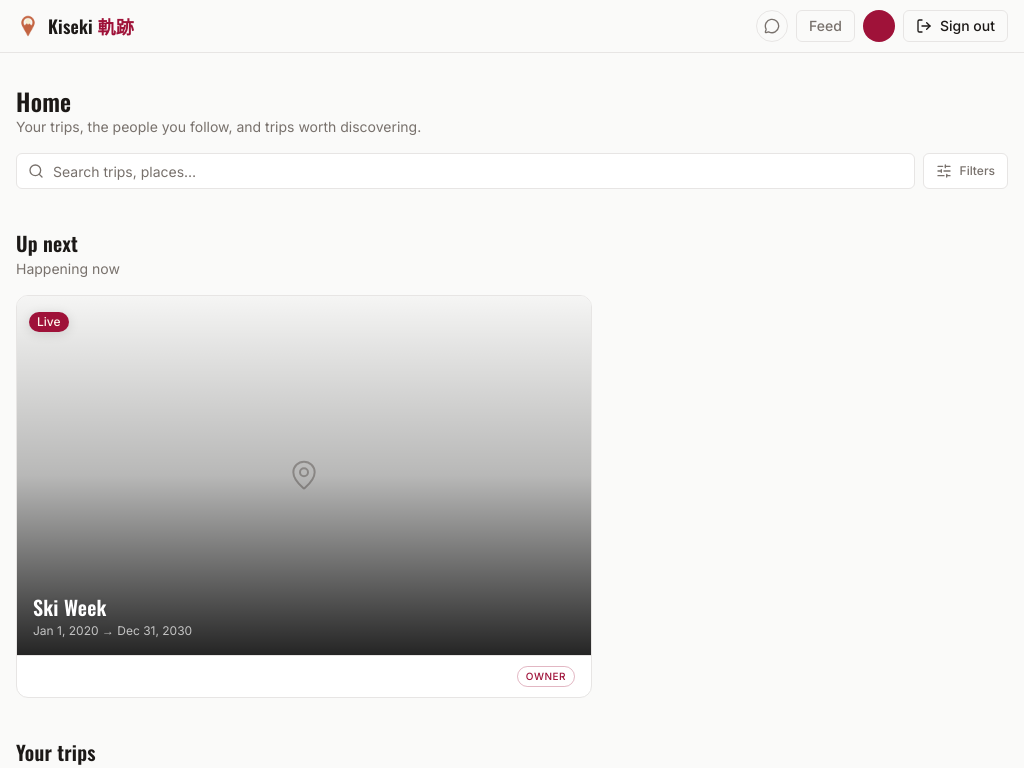
Test case: followed trips are not your trips › hides followed trips behind the Mine facet, with the band's one-line collapse
Click the button "Filters" at (965, 171), box [923,153,1008,189]
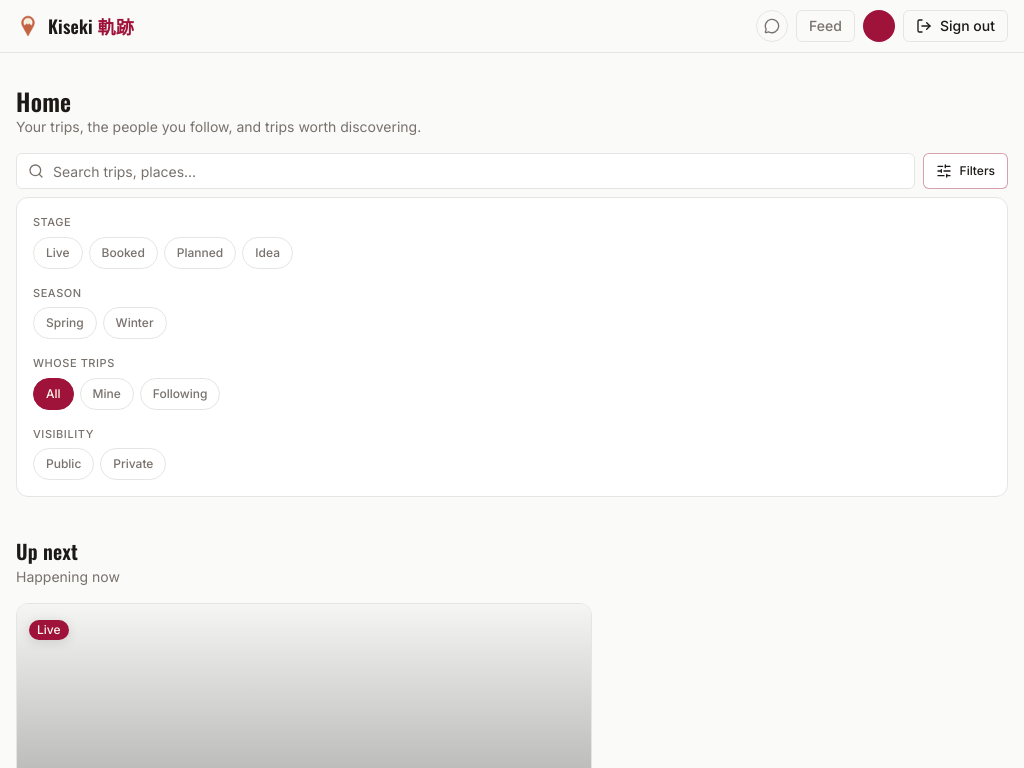
Click the button "Mine" at (107, 394), box [80,378,134,410]
(page scrolled)
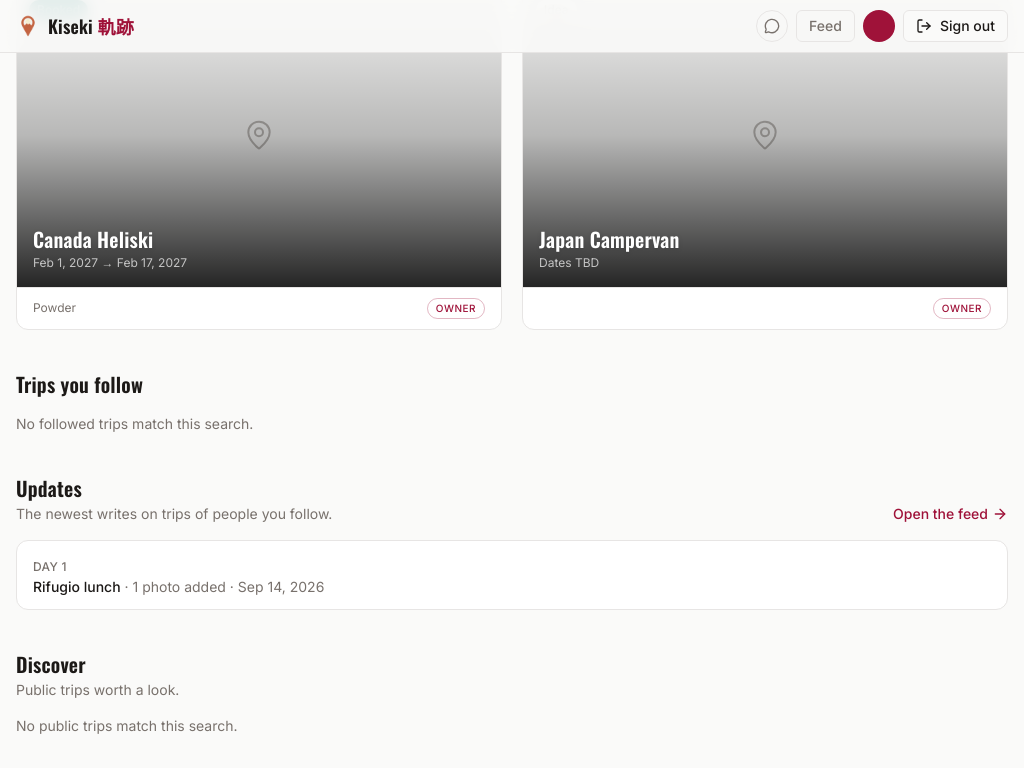
Check: the element named "Trips you follow" shows "No followed trips match this search.", box [16,414,253,432]
